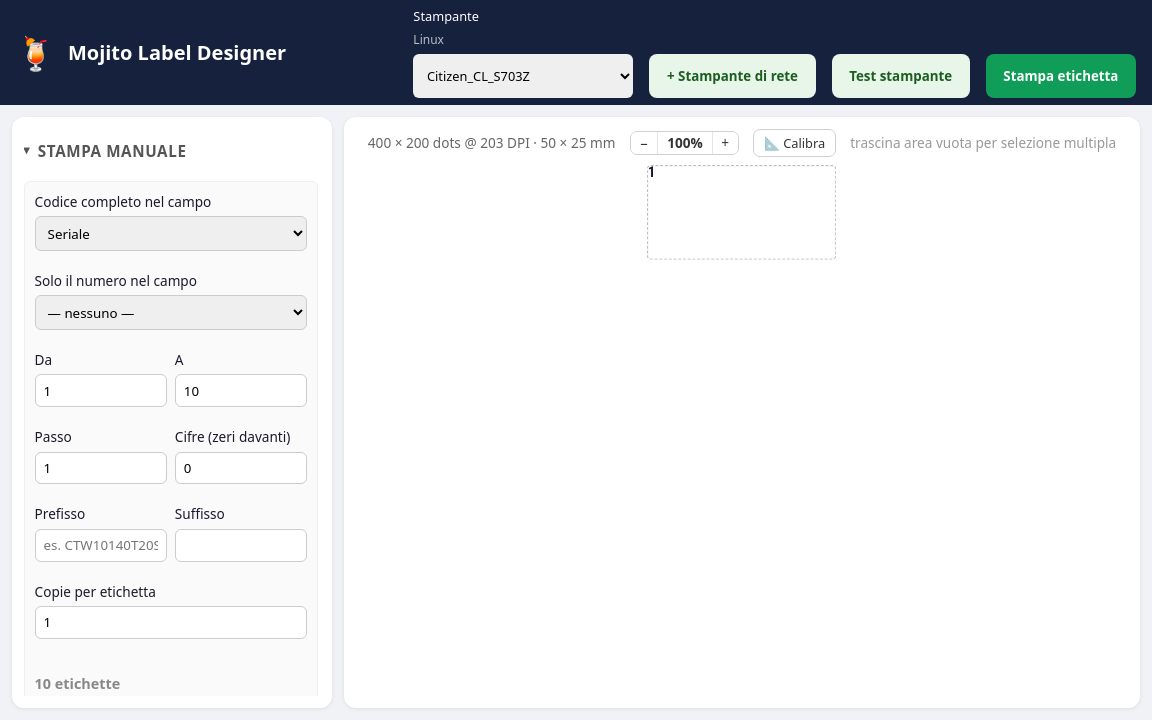
it: LabelDesigner: dove stampare › un indirizzo sbagliato non aggiunge niente e spiega perche'
Click the button with class "add-network-printer" at (732,76), box x1=649 y1=54 x2=816 y2=98
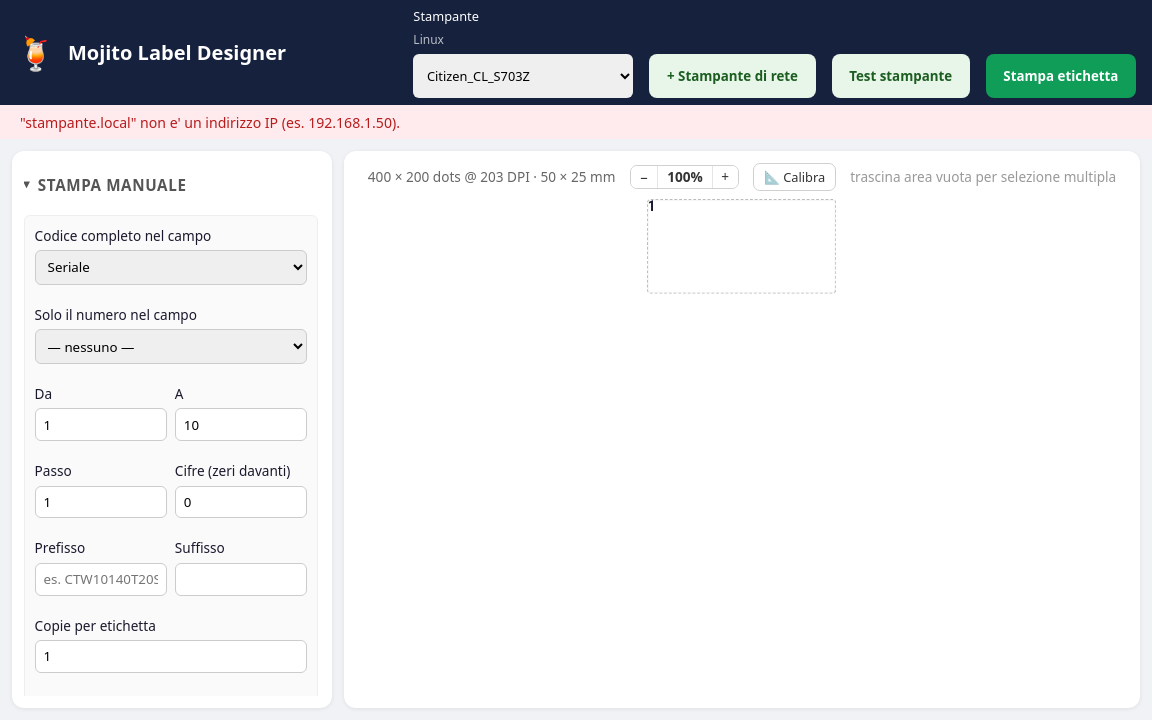
Expected: the dropdown labelled "Stampante Linux" shows "Citizen_CL_S703Z", x1=413 y1=54 x2=633 y2=98
Result: the text "non e' un indirizzo IP" is shown at x1=20 y1=112 x2=400 y2=132
